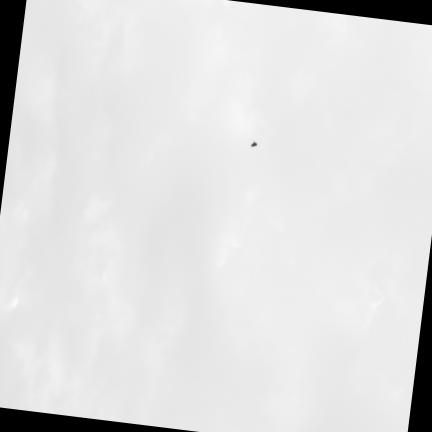Shahed: (250, 141, 256, 146)
